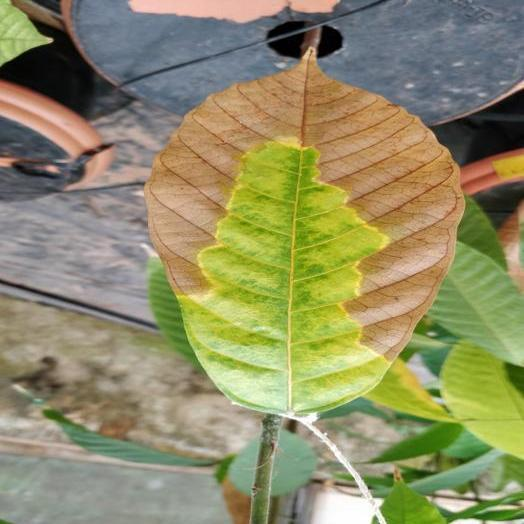Potassium: (146, 48, 463, 416)
